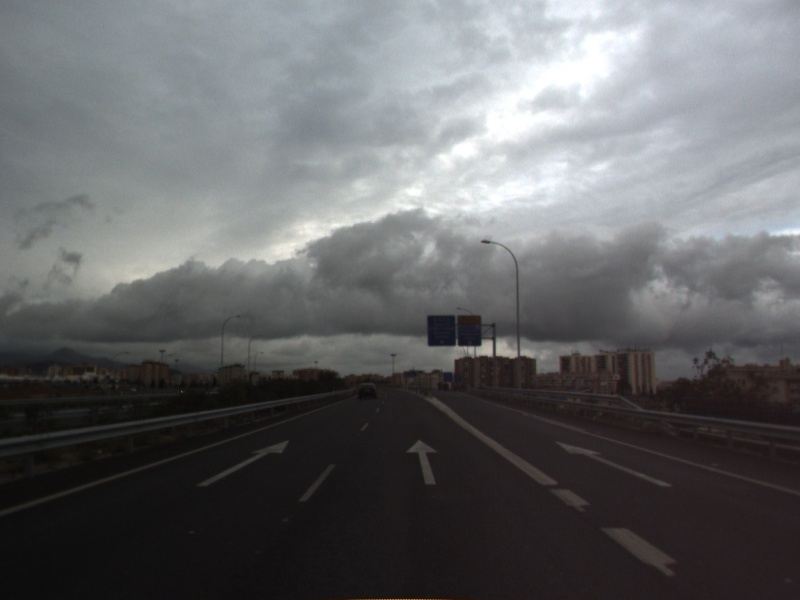STRAIGHT: (554, 439, 674, 489), (194, 438, 291, 488), (404, 437, 441, 487)
